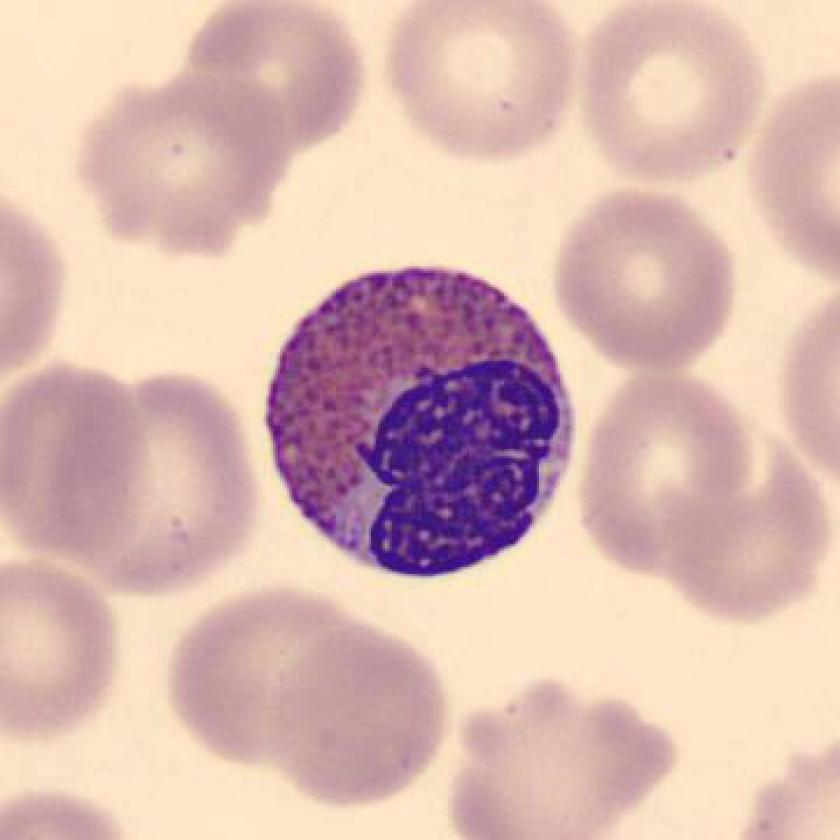eosinophil: (253, 258, 591, 589)
